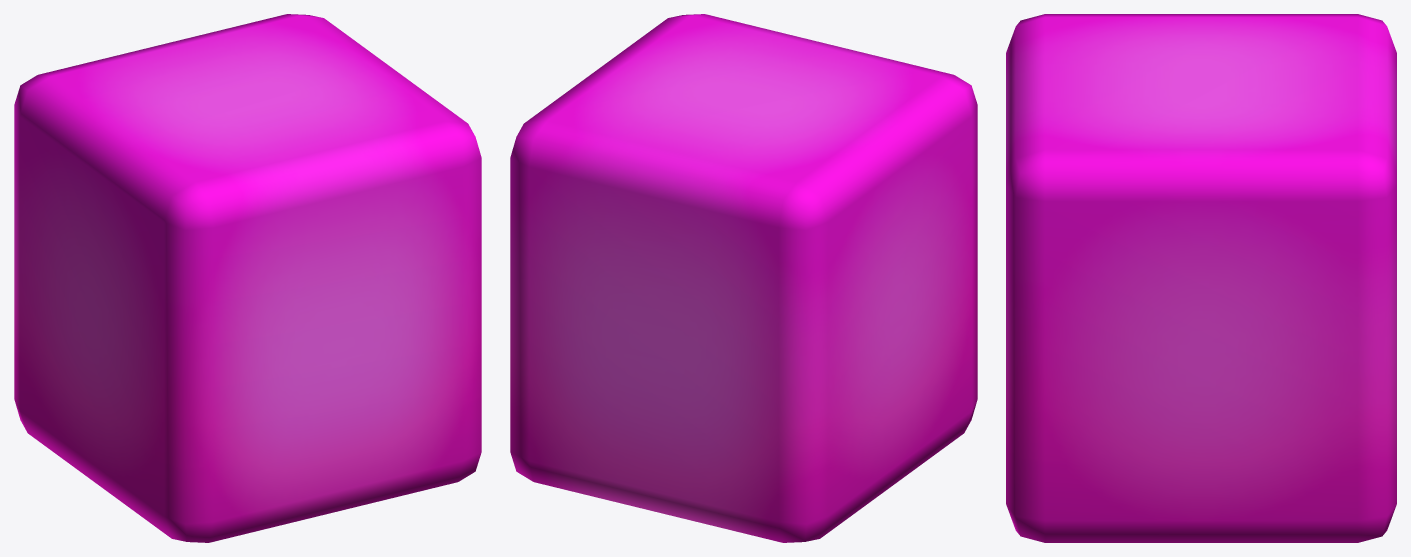
File: FX_box_purple.fbx
3 views of the same model, side by side, from view 1: azimuth 30°, elevation 25°; view 2: azimuth 150°, elevation 25°; view 3: azimuth 270°, elevation 25° (orthographic). The views are drawn at different scales.
Parts seen in each view (by area): view 1: FX_box_purple; view 2: FX_box_purple; view 3: FX_box_purple.
Part boxes in pixels (x1,y1,x2,y2): FX_box_purple: (14,14,481,542); FX_box_purple: (510,14,977,542); FX_box_purple: (1006,14,1396,542).
Size of the model in its own units: 99.99 by 110 by 100.
1 material, 1 textured.
